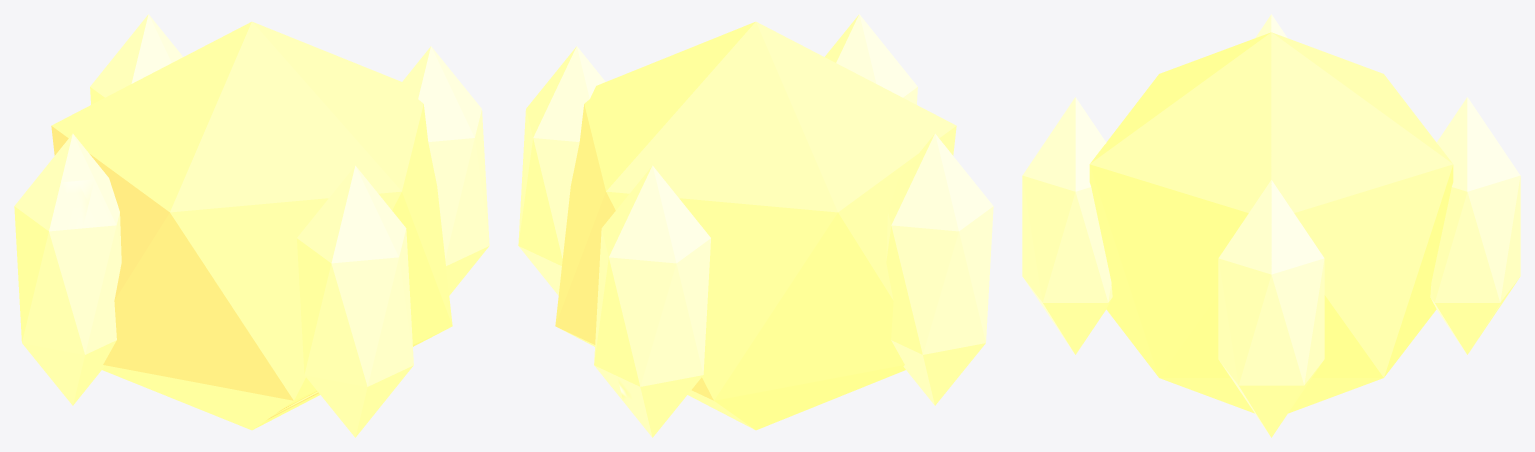
The model's file is fireball.glb.
3 renders of one model, left to right at view 1: azimuth 30°, elevation 25°; view 2: azimuth 150°, elevation 25°; view 3: azimuth 270°, elevation 25°, orthographic. The views are drawn at different scales.
Visible parts, largest first — view 1: FireballShell; view 2: FireballShell; view 3: FireballShell.
Part boxes in pixels (x1,y1,x2,y2): FireballShell: [14, 14, 489, 437]; FireballShell: [518, 14, 993, 437]; FireballShell: [1022, 14, 1520, 437].
Bounding box in the file's own units: 0.5652 × 0.48 × 0.5591.
